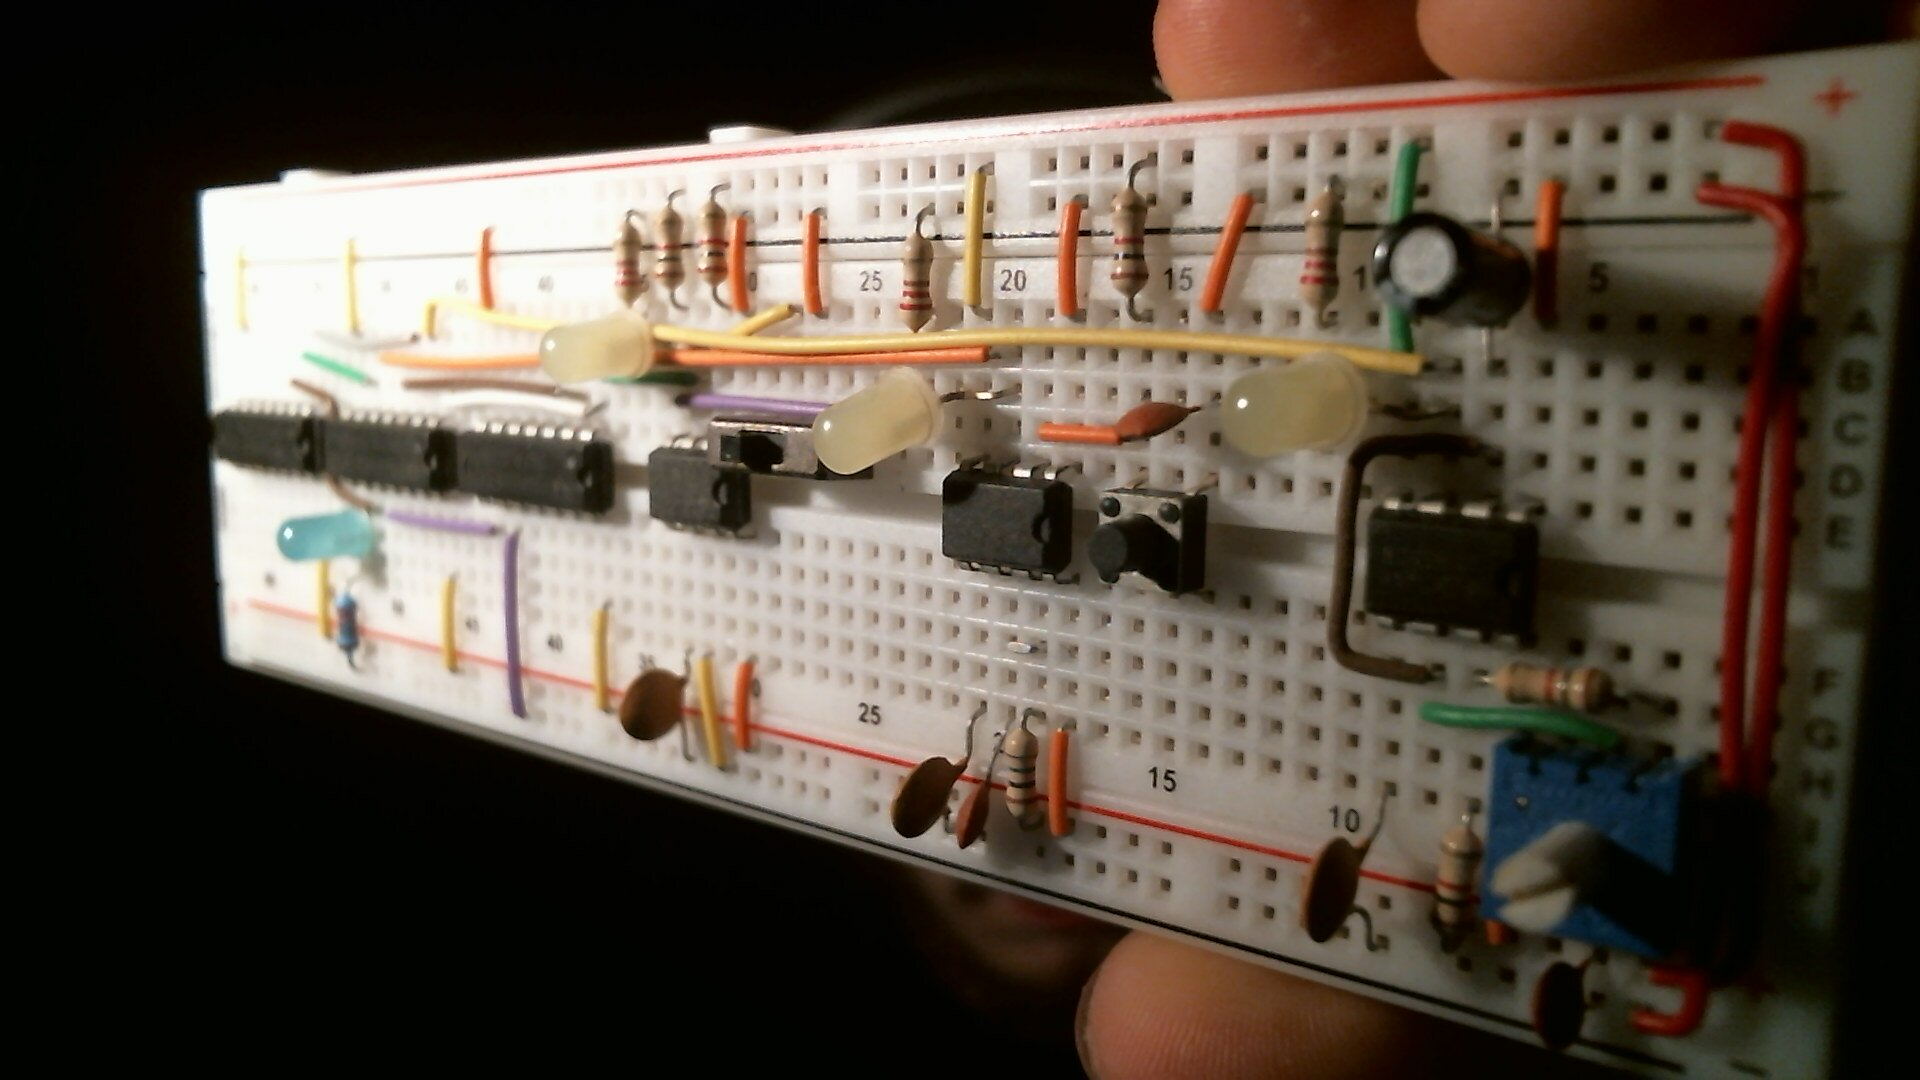IC: (1361, 496, 1543, 649), (940, 459, 1077, 587), (454, 422, 617, 522), (647, 439, 754, 542)
LED: (1218, 352, 1370, 463), (810, 364, 949, 476), (535, 309, 655, 388), (276, 506, 375, 563)
ceramic_capacitor: (1298, 835, 1378, 945), (887, 756, 963, 840), (1530, 959, 1592, 1056), (618, 667, 686, 742), (953, 781, 993, 851)
electrolytic_capacitor: (1370, 208, 1535, 334)
resistor: (1486, 658, 1622, 717), (1425, 822, 1484, 953), (1296, 183, 1346, 322), (1106, 183, 1153, 305), (895, 229, 938, 334), (1000, 723, 1040, 829), (692, 196, 731, 293), (608, 218, 647, 309), (650, 202, 688, 294), (331, 592, 363, 661)
